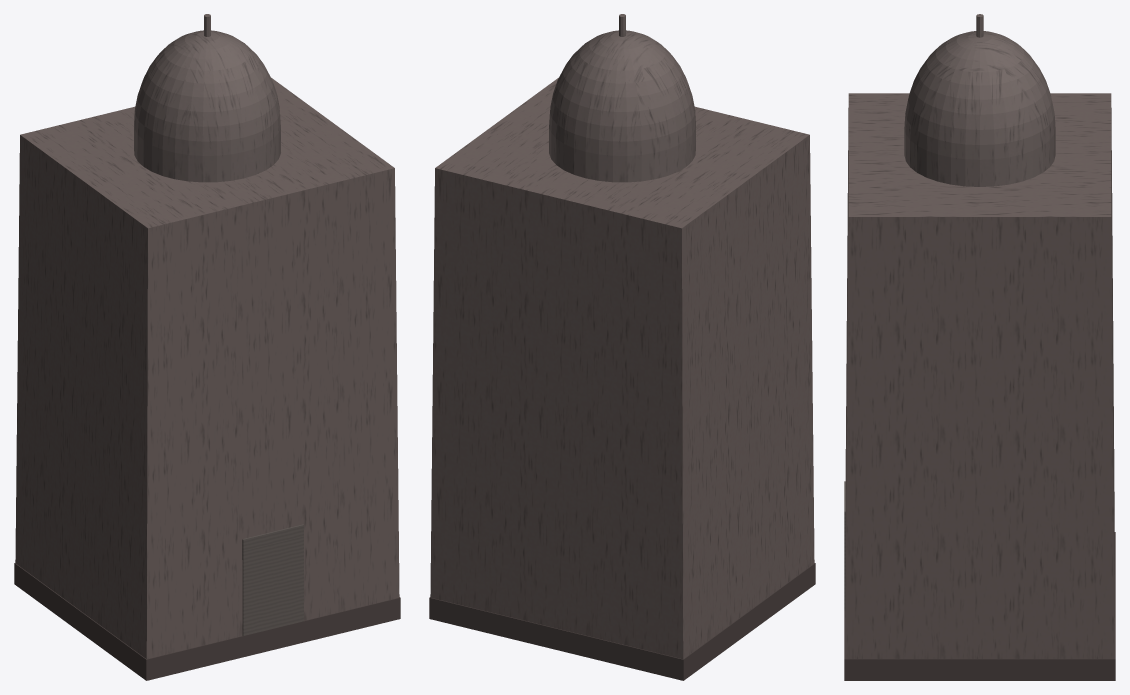
Rendered from SM_Souq_Warehouse_W5D45_Dome.fbx.
The picture shows the model from 3 angles, left to right: view 1: azimuth 30°, elevation 25°; view 2: azimuth 150°, elevation 25°; view 3: azimuth 270°, elevation 25°; orthographic projection. The views are drawn at different scales.
Parts seen in each view (by area): view 1: SM_Souq_Warehouse_W5D45_Dome; view 2: SM_Souq_Warehouse_W5D45_Dome; view 3: SM_Souq_Warehouse_W5D45_Dome.
Boxes of the visible parts, left/top/right/bottom form: SM_Souq_Warehouse_W5D45_Dome: left=14, top=14, right=400, bottom=680; SM_Souq_Warehouse_W5D45_Dome: left=429, top=14, right=815, bottom=680; SM_Souq_Warehouse_W5D45_Dome: left=844, top=14, right=1115, bottom=680.
Bounding box in the file's own units: 502 × 1107 × 452.
Materials: 4 (4 with a texture image).
